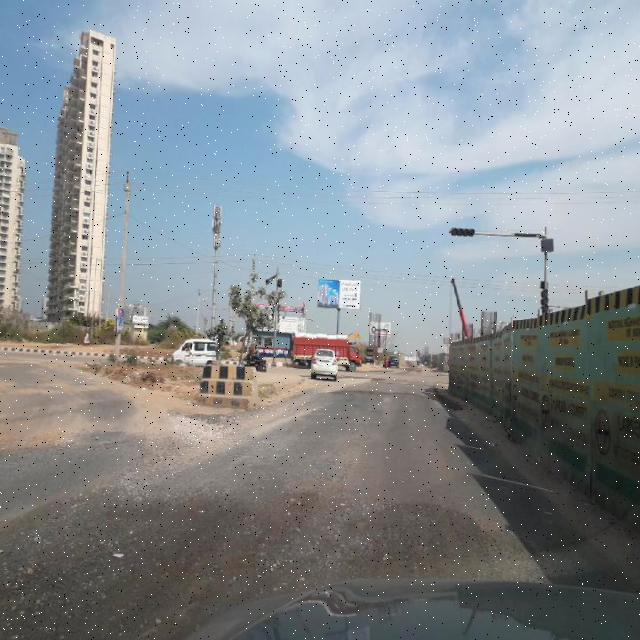D40: (5, 474, 233, 639), (237, 468, 518, 578), (2, 404, 96, 468), (124, 400, 218, 464)
